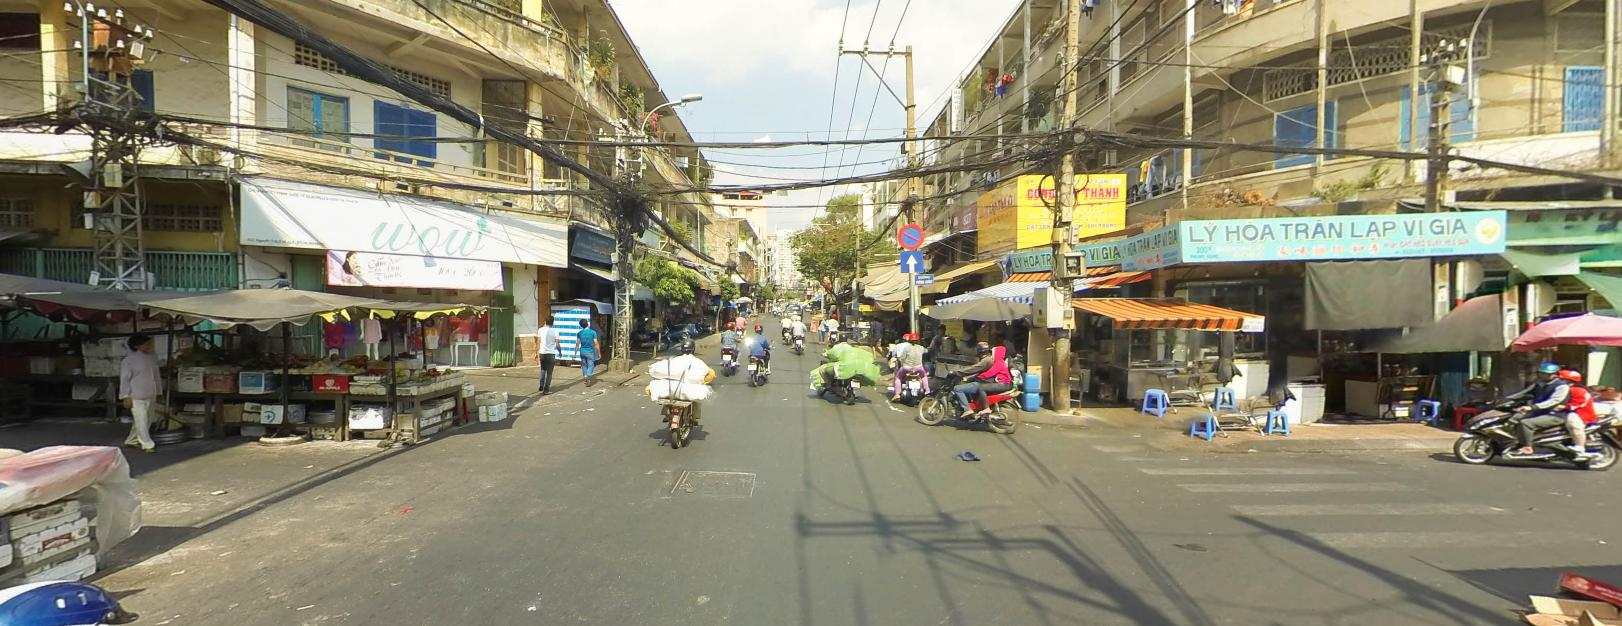Cam dung va do: (896, 222, 925, 246)
